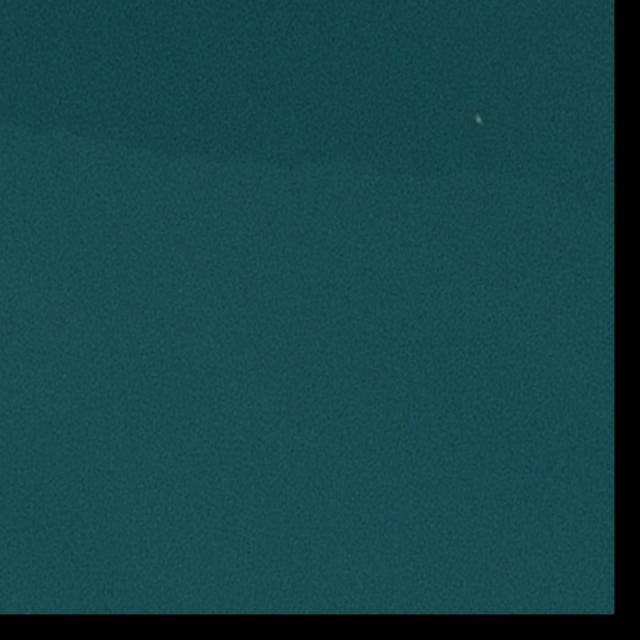ship: (474, 113, 485, 127)
